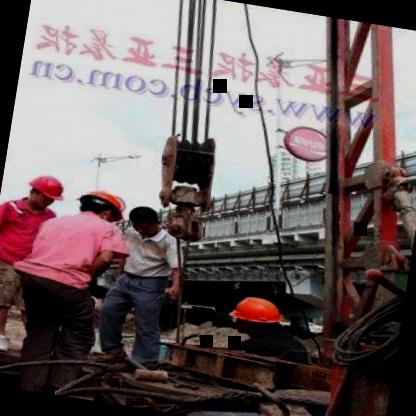head: (119, 200, 170, 243)
helmet: (222, 288, 290, 344), (77, 187, 137, 235), (20, 167, 70, 211)
